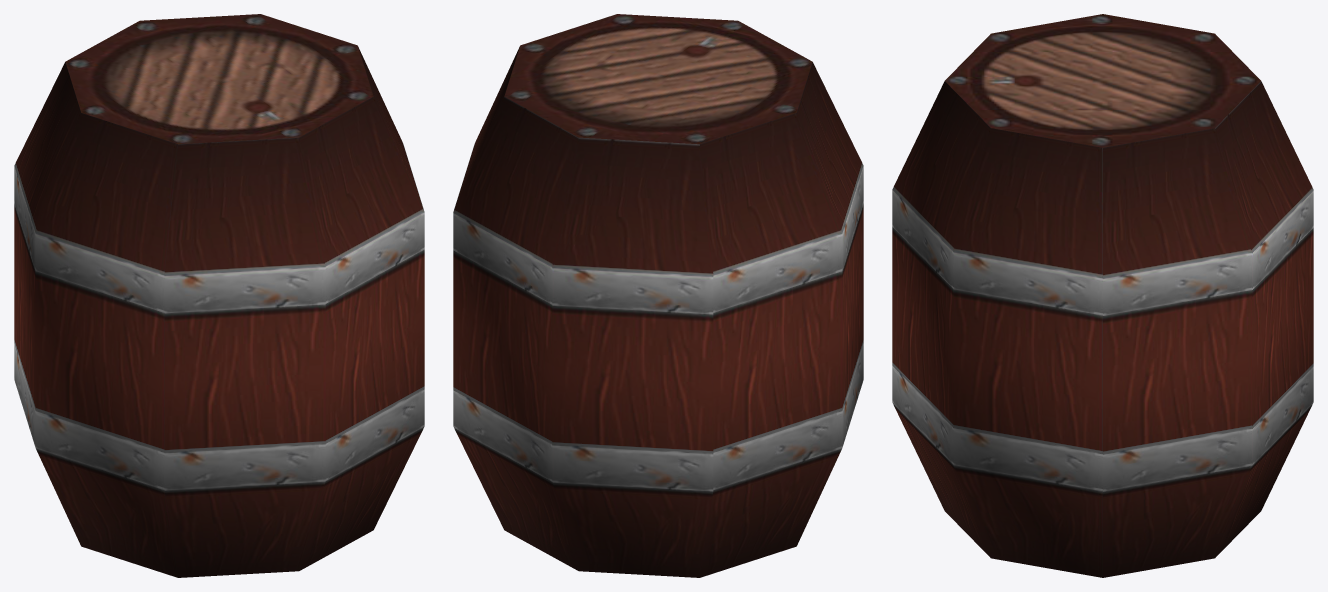
The model's file is barrel.FBX.
The picture shows the model from 3 angles, left to right: view 1: azimuth 30°, elevation 25°; view 2: azimuth 150°, elevation 25°; view 3: azimuth 270°, elevation 25°; orthographic projection.
Visible parts, largest first — view 1: barrel; view 2: barrel; view 3: barrel.
Part boxes in pixels (<box>): barrel: <box>14,14,424,577</box>; barrel: <box>453,14,863,577</box>; barrel: <box>892,14,1313,577</box>.
Bounding box in the file's own units: 72.09 × 81.26 × 72.09.
